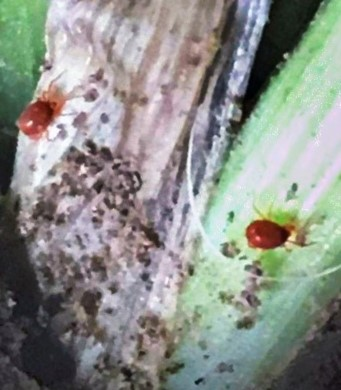Wheat Red Spider: (11, 65, 84, 146)
